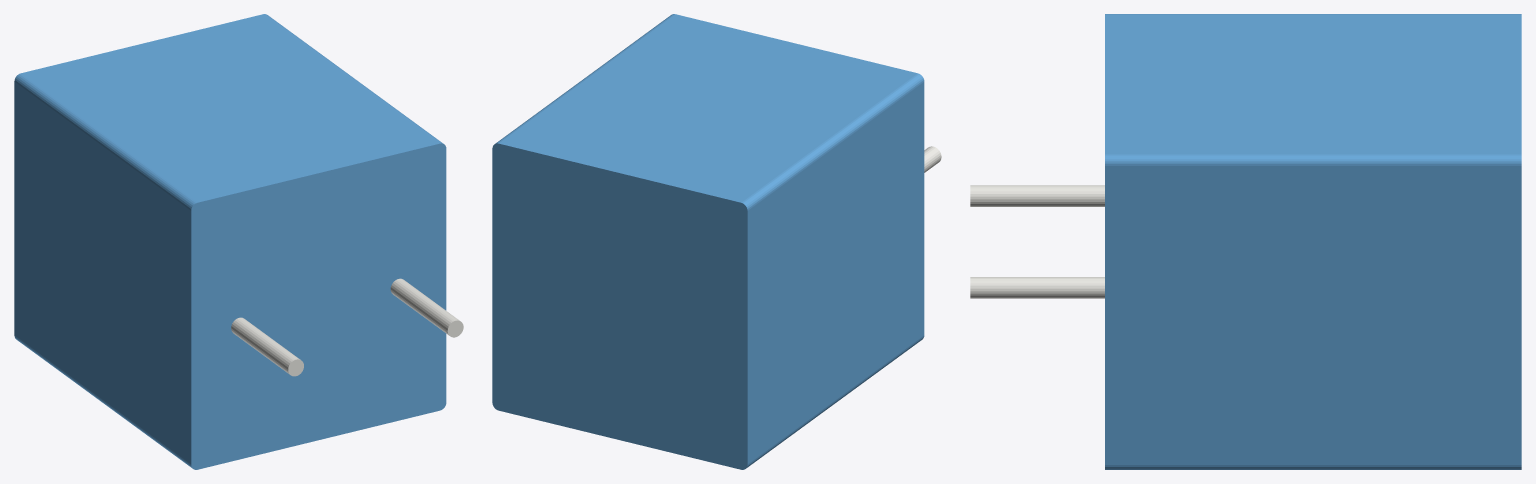
Rendered from L_Radial_L8.0mm_W8.0mm_P5.00mm_Neosid_SD8.glb.
3 renders of one model, left to right at view 1: azimuth 30°, elevation 25°; view 2: azimuth 150°, elevation 25°; view 3: azimuth 270°, elevation 25°, orthographic. The views are drawn at different scales.
Visible parts, largest first — view 1: Shape_IndexedFaceSet.002, Shape_IndexedFaceSet.007, Shape_IndexedFaceSet.003, Shape_IndexedFaceSet.005, Shape_IndexedFaceSet.011, Shape_IndexedFaceSet.001, Shape_IndexedFaceSet.009, Shape_IndexedFaceSet.004; view 2: Shape_IndexedFaceSet.012, Shape_IndexedFaceSet.007, Shape_IndexedFaceSet.003, Shape_IndexedFaceSet.005, Shape_IndexedFaceSet.009, Shape_IndexedFaceSet.004; view 3: Shape_IndexedFaceSet.006, Shape_IndexedFaceSet.003, Shape_IndexedFaceSet.004, Shape_IndexedFaceSet.001, Shape_IndexedFaceSet.011, Shape_IndexedFaceSet.008.
Part boxes in pixels (bbox=[...]): Shape_IndexedFaceSet.002: bbox=[191, 143, 446, 469]; Shape_IndexedFaceSet.007: bbox=[14, 82, 191, 464]; Shape_IndexedFaceSet.003: bbox=[21, 14, 439, 202]; Shape_IndexedFaceSet.005: bbox=[14, 73, 197, 210]; Shape_IndexedFaceSet.011: bbox=[231, 317, 300, 374]; Shape_IndexedFaceSet.001: bbox=[390, 278, 459, 335]; Shape_IndexedFaceSet.009: bbox=[14, 335, 192, 468]; Shape_IndexedFaceSet.004: bbox=[263, 14, 443, 143]; Shape_IndexedFaceSet.012: bbox=[492, 143, 747, 469]; Shape_IndexedFaceSet.007: bbox=[747, 82, 924, 464]; Shape_IndexedFaceSet.003: bbox=[499, 14, 917, 202]; Shape_IndexedFaceSet.005: bbox=[741, 73, 924, 210]; Shape_IndexedFaceSet.009: bbox=[746, 335, 924, 468]; Shape_IndexedFaceSet.004: bbox=[495, 14, 674, 143]; Shape_IndexedFaceSet.006: bbox=[1105, 166, 1521, 464]; Shape_IndexedFaceSet.003: bbox=[1105, 14, 1521, 154]; Shape_IndexedFaceSet.004: bbox=[1105, 154, 1521, 165]; Shape_IndexedFaceSet.001: bbox=[970, 277, 1104, 298]; Shape_IndexedFaceSet.011: bbox=[970, 185, 1104, 206]; Shape_IndexedFaceSet.008: bbox=[1105, 465, 1521, 469].
Size of the model in its own units: 3.15 by 3.15 by 5.
